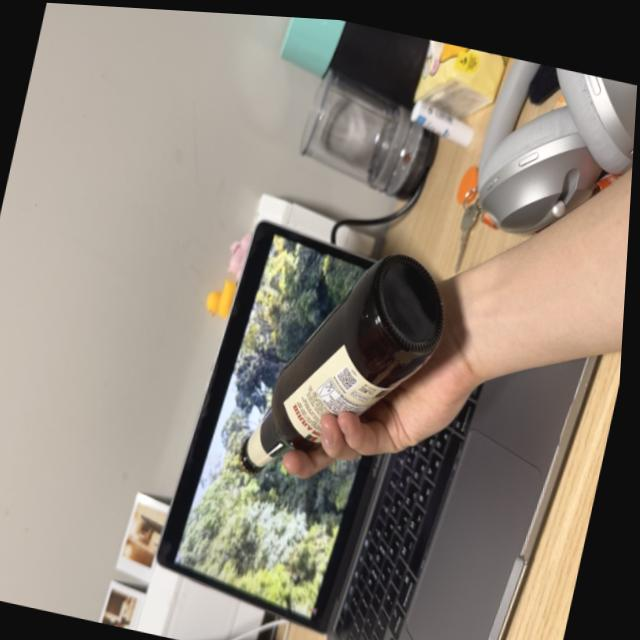beer: (234, 217, 467, 510)
